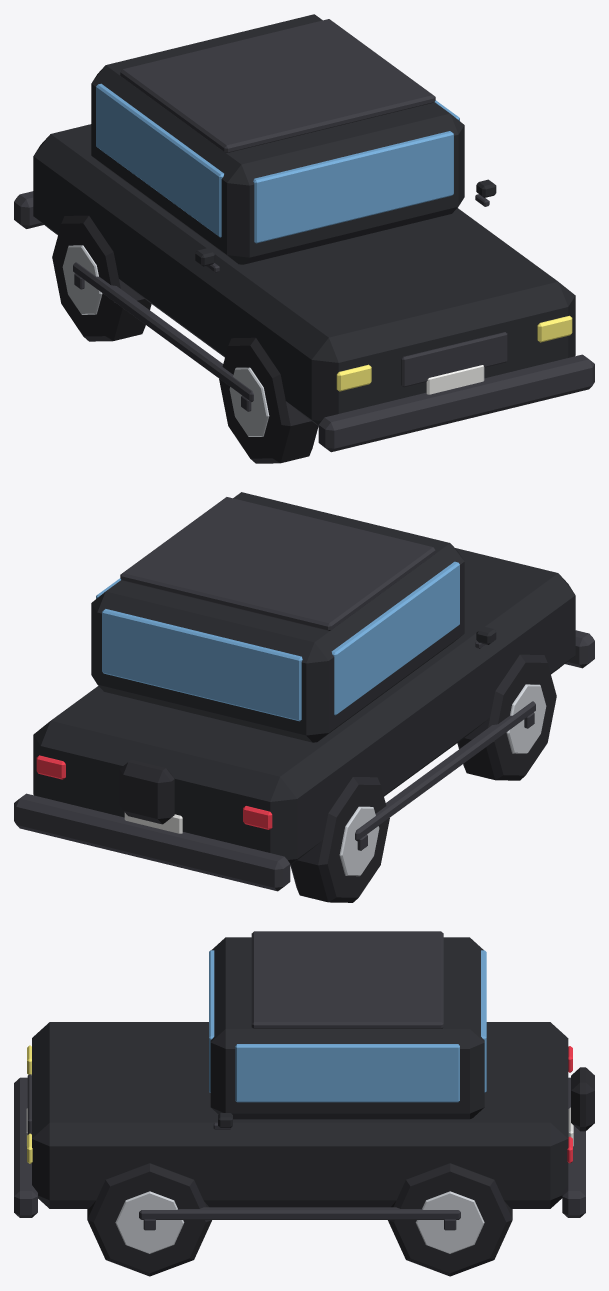
The model's file is BlackJeep.fbx.
3 views of the same model, one above another, from view 1: azimuth 30°, elevation 25°; view 2: azimuth 150°, elevation 25°; view 3: azimuth 270°, elevation 25° (orthographic). The views are drawn at different scales.
Parts seen in each view (by area): view 1: BlackJeep, BlackJeep_WheelFR, BlackJeep_WheelBR; view 2: BlackJeep, BlackJeep_WheelBR, BlackJeep_WheelFR; view 3: BlackJeep, BlackJeep_WheelFL, BlackJeep_WheelBL.
Boxes of the visible parts, x1=… form: BlackJeep: x1=14, y1=14, x2=594, y2=452; BlackJeep_WheelFR: x1=219, y1=337, x2=318, y2=463; BlackJeep_WheelBR: x1=52, y1=215, x2=151, y2=341; BlackJeep: x1=14, y1=492, x2=594, y2=891; BlackJeep_WheelBR: x1=290, y1=777, x2=389, y2=902; BlackJeep_WheelFR: x1=457, y1=654, x2=556, y2=780; BlackJeep: x1=14, y1=931, x2=594, y2=1219; BlackJeep_WheelFL: x1=87, y1=1163, x2=211, y2=1276; BlackJeep_WheelBL: x1=388, y1=1163, x2=512, y2=1276.
Size of the model in its own units: 5.15 by 4.48 by 9.75.
Materials: 1 (1 with a texture image).
